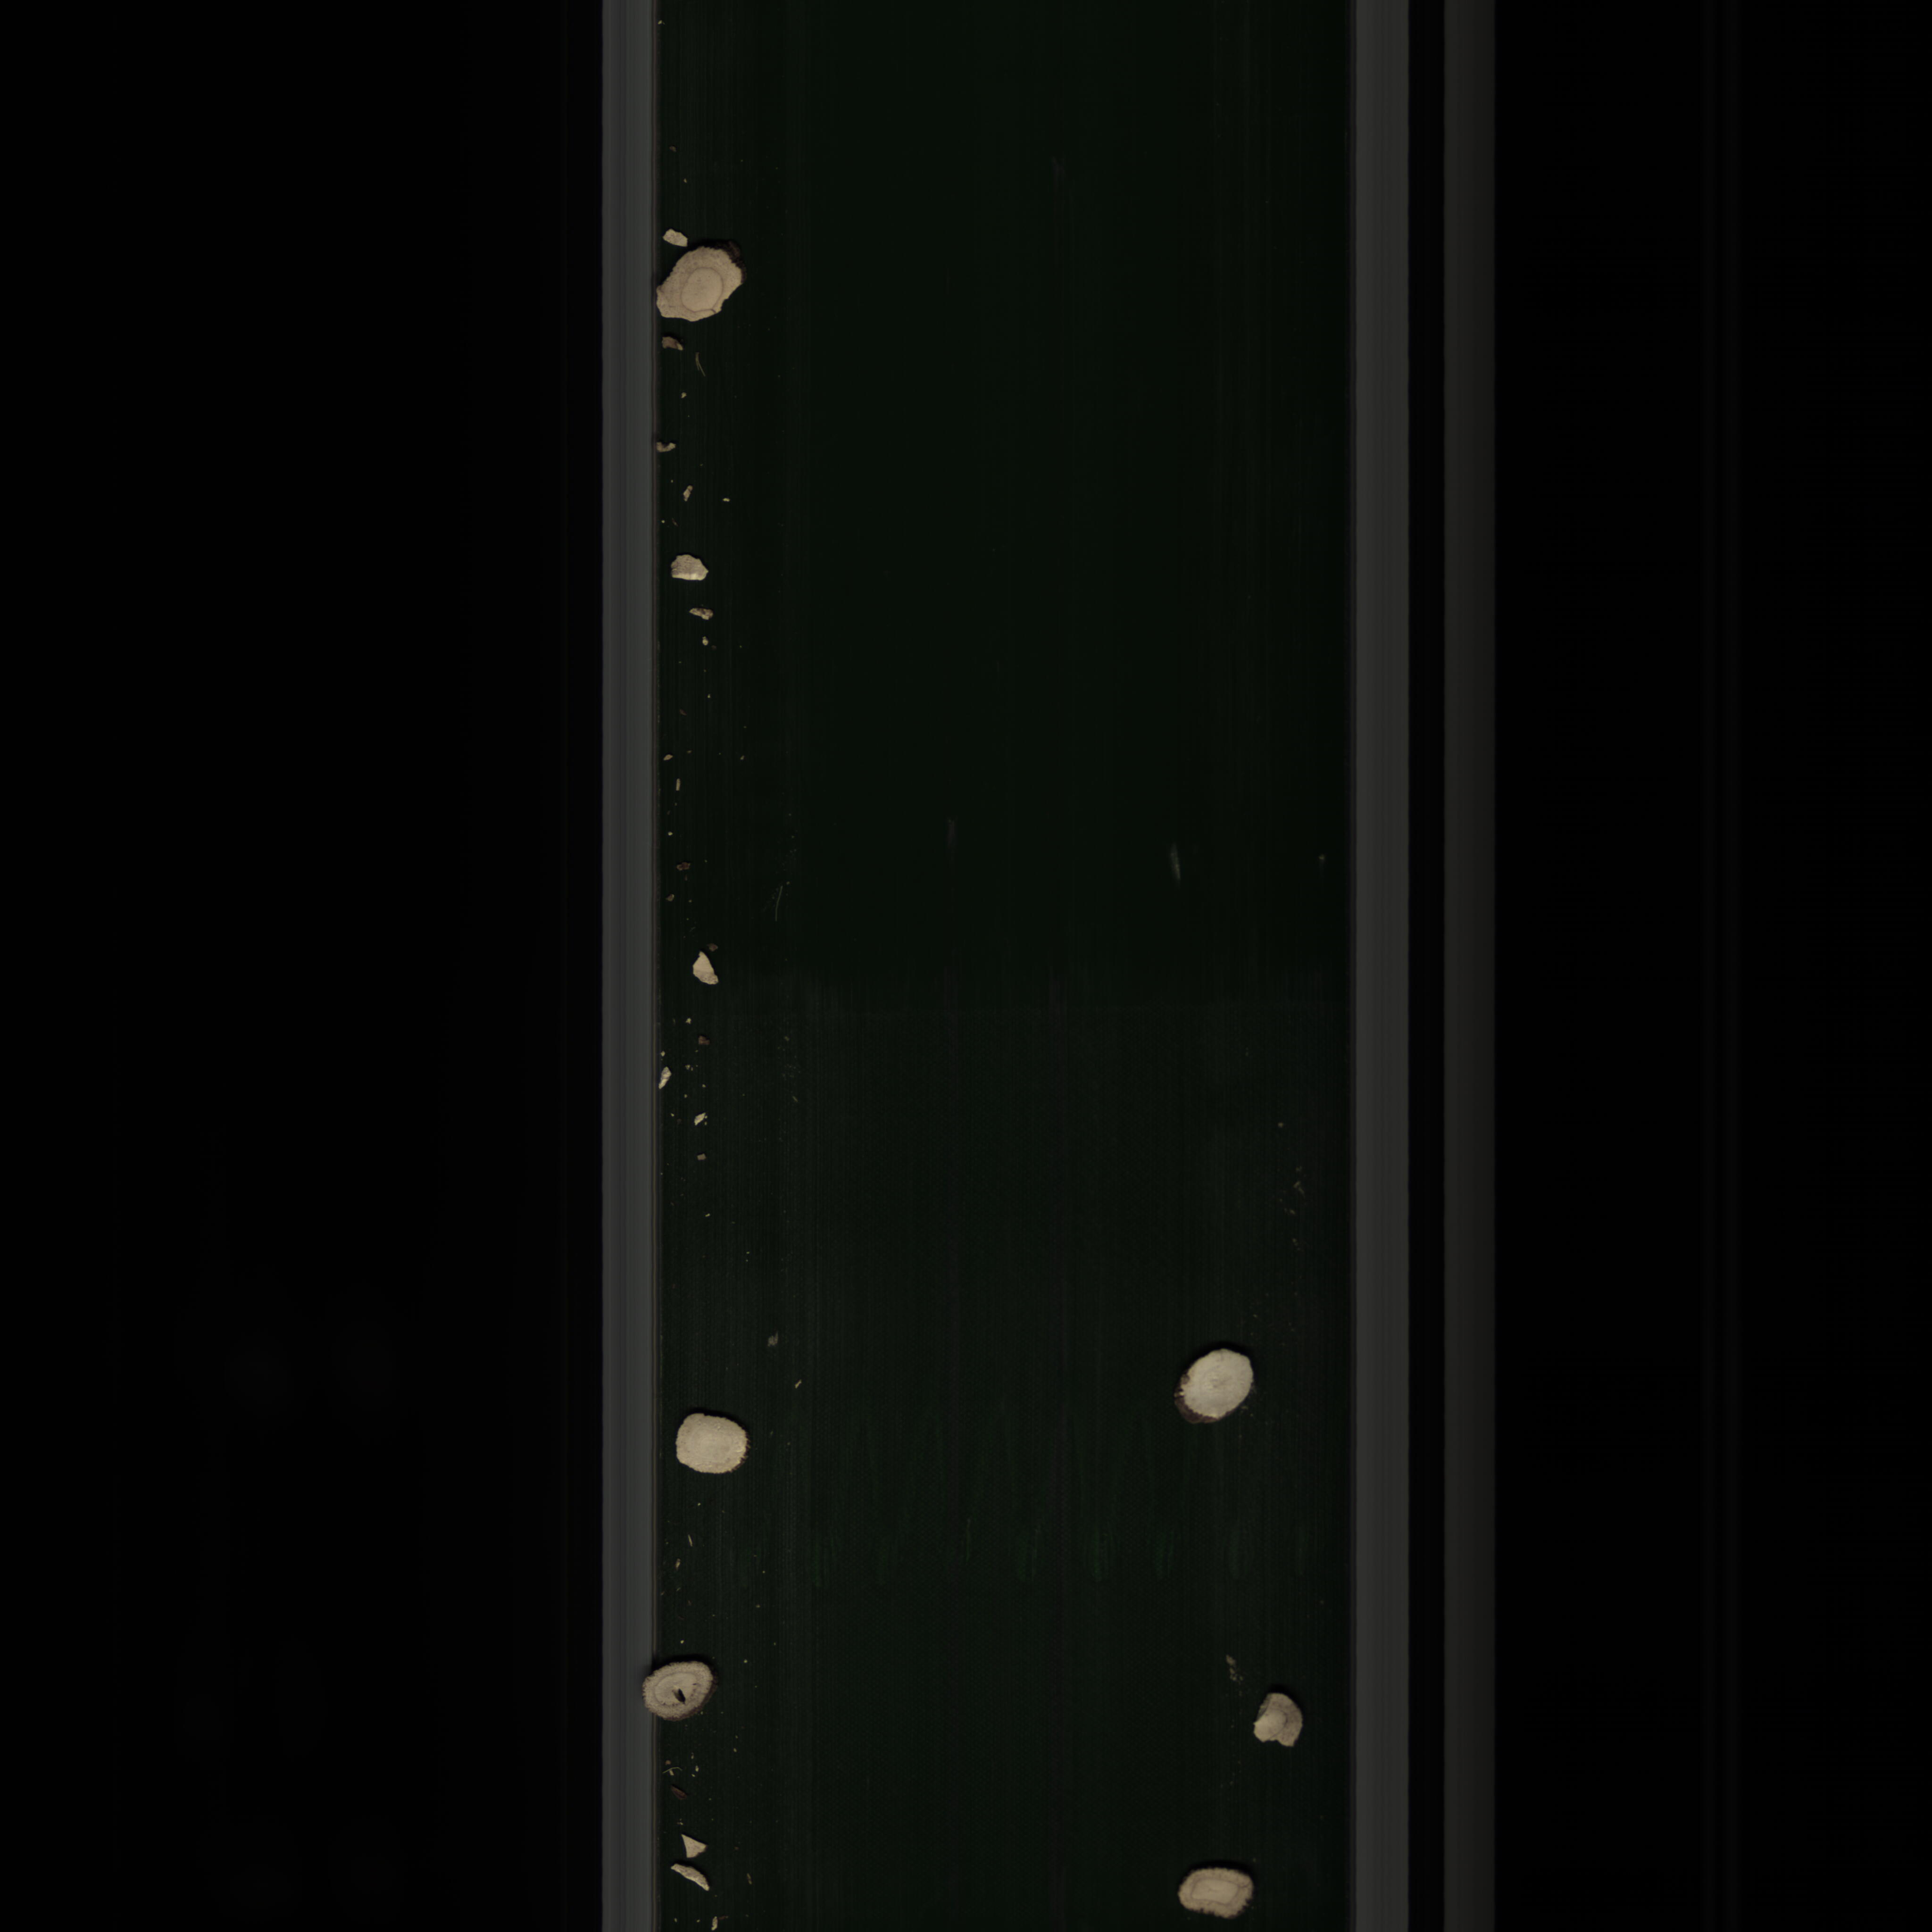debris: (655, 221, 759, 334), (1242, 1690, 1307, 1759), (665, 1824, 718, 1898), (665, 548, 718, 589), (688, 952, 724, 993)
hole: (639, 1651, 718, 1729)
